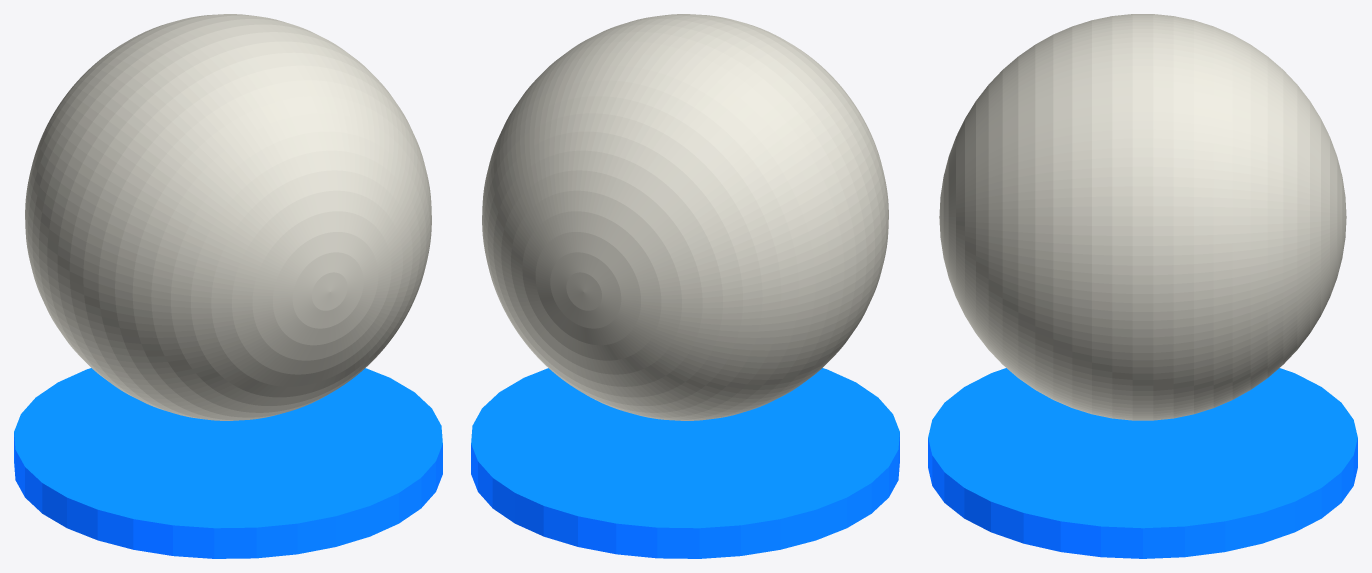
The model's file is sports_soccer_ball.dae.
The picture shows the model from 3 angles, left to right: view 1: azimuth 30°, elevation 25°; view 2: azimuth 150°, elevation 25°; view 3: azimuth 270°, elevation 25°; orthographic projection.
Parts seen in each view (by area): view 1: 04_01_Popular_Sports_Soccer_Ball_part_01, 04_01_Popular_Sports_Soccer_Ball_ROOT_base; view 2: 04_01_Popular_Sports_Soccer_Ball_part_01, 04_01_Popular_Sports_Soccer_Ball_ROOT_base; view 3: 04_01_Popular_Sports_Soccer_Ball_part_01, 04_01_Popular_Sports_Soccer_Ball_ROOT_base.
Part boxes in pixels (x1=…): 04_01_Popular_Sports_Soccer_Ball_part_01: x1=25, y1=14, x2=431, y2=420; 04_01_Popular_Sports_Soccer_Ball_ROOT_base: x1=14, y1=368, x2=442, y2=558; 04_01_Popular_Sports_Soccer_Ball_part_01: x1=482, y1=14, x2=888, y2=420; 04_01_Popular_Sports_Soccer_Ball_ROOT_base: x1=471, y1=368, x2=899, y2=558; 04_01_Popular_Sports_Soccer_Ball_part_01: x1=939, y1=14, x2=1346, y2=420; 04_01_Popular_Sports_Soccer_Ball_ROOT_base: x1=928, y1=368, x2=1357, y2=558.
Bounding box in the file's own units: 0.76 × 0.8491 × 0.76.
